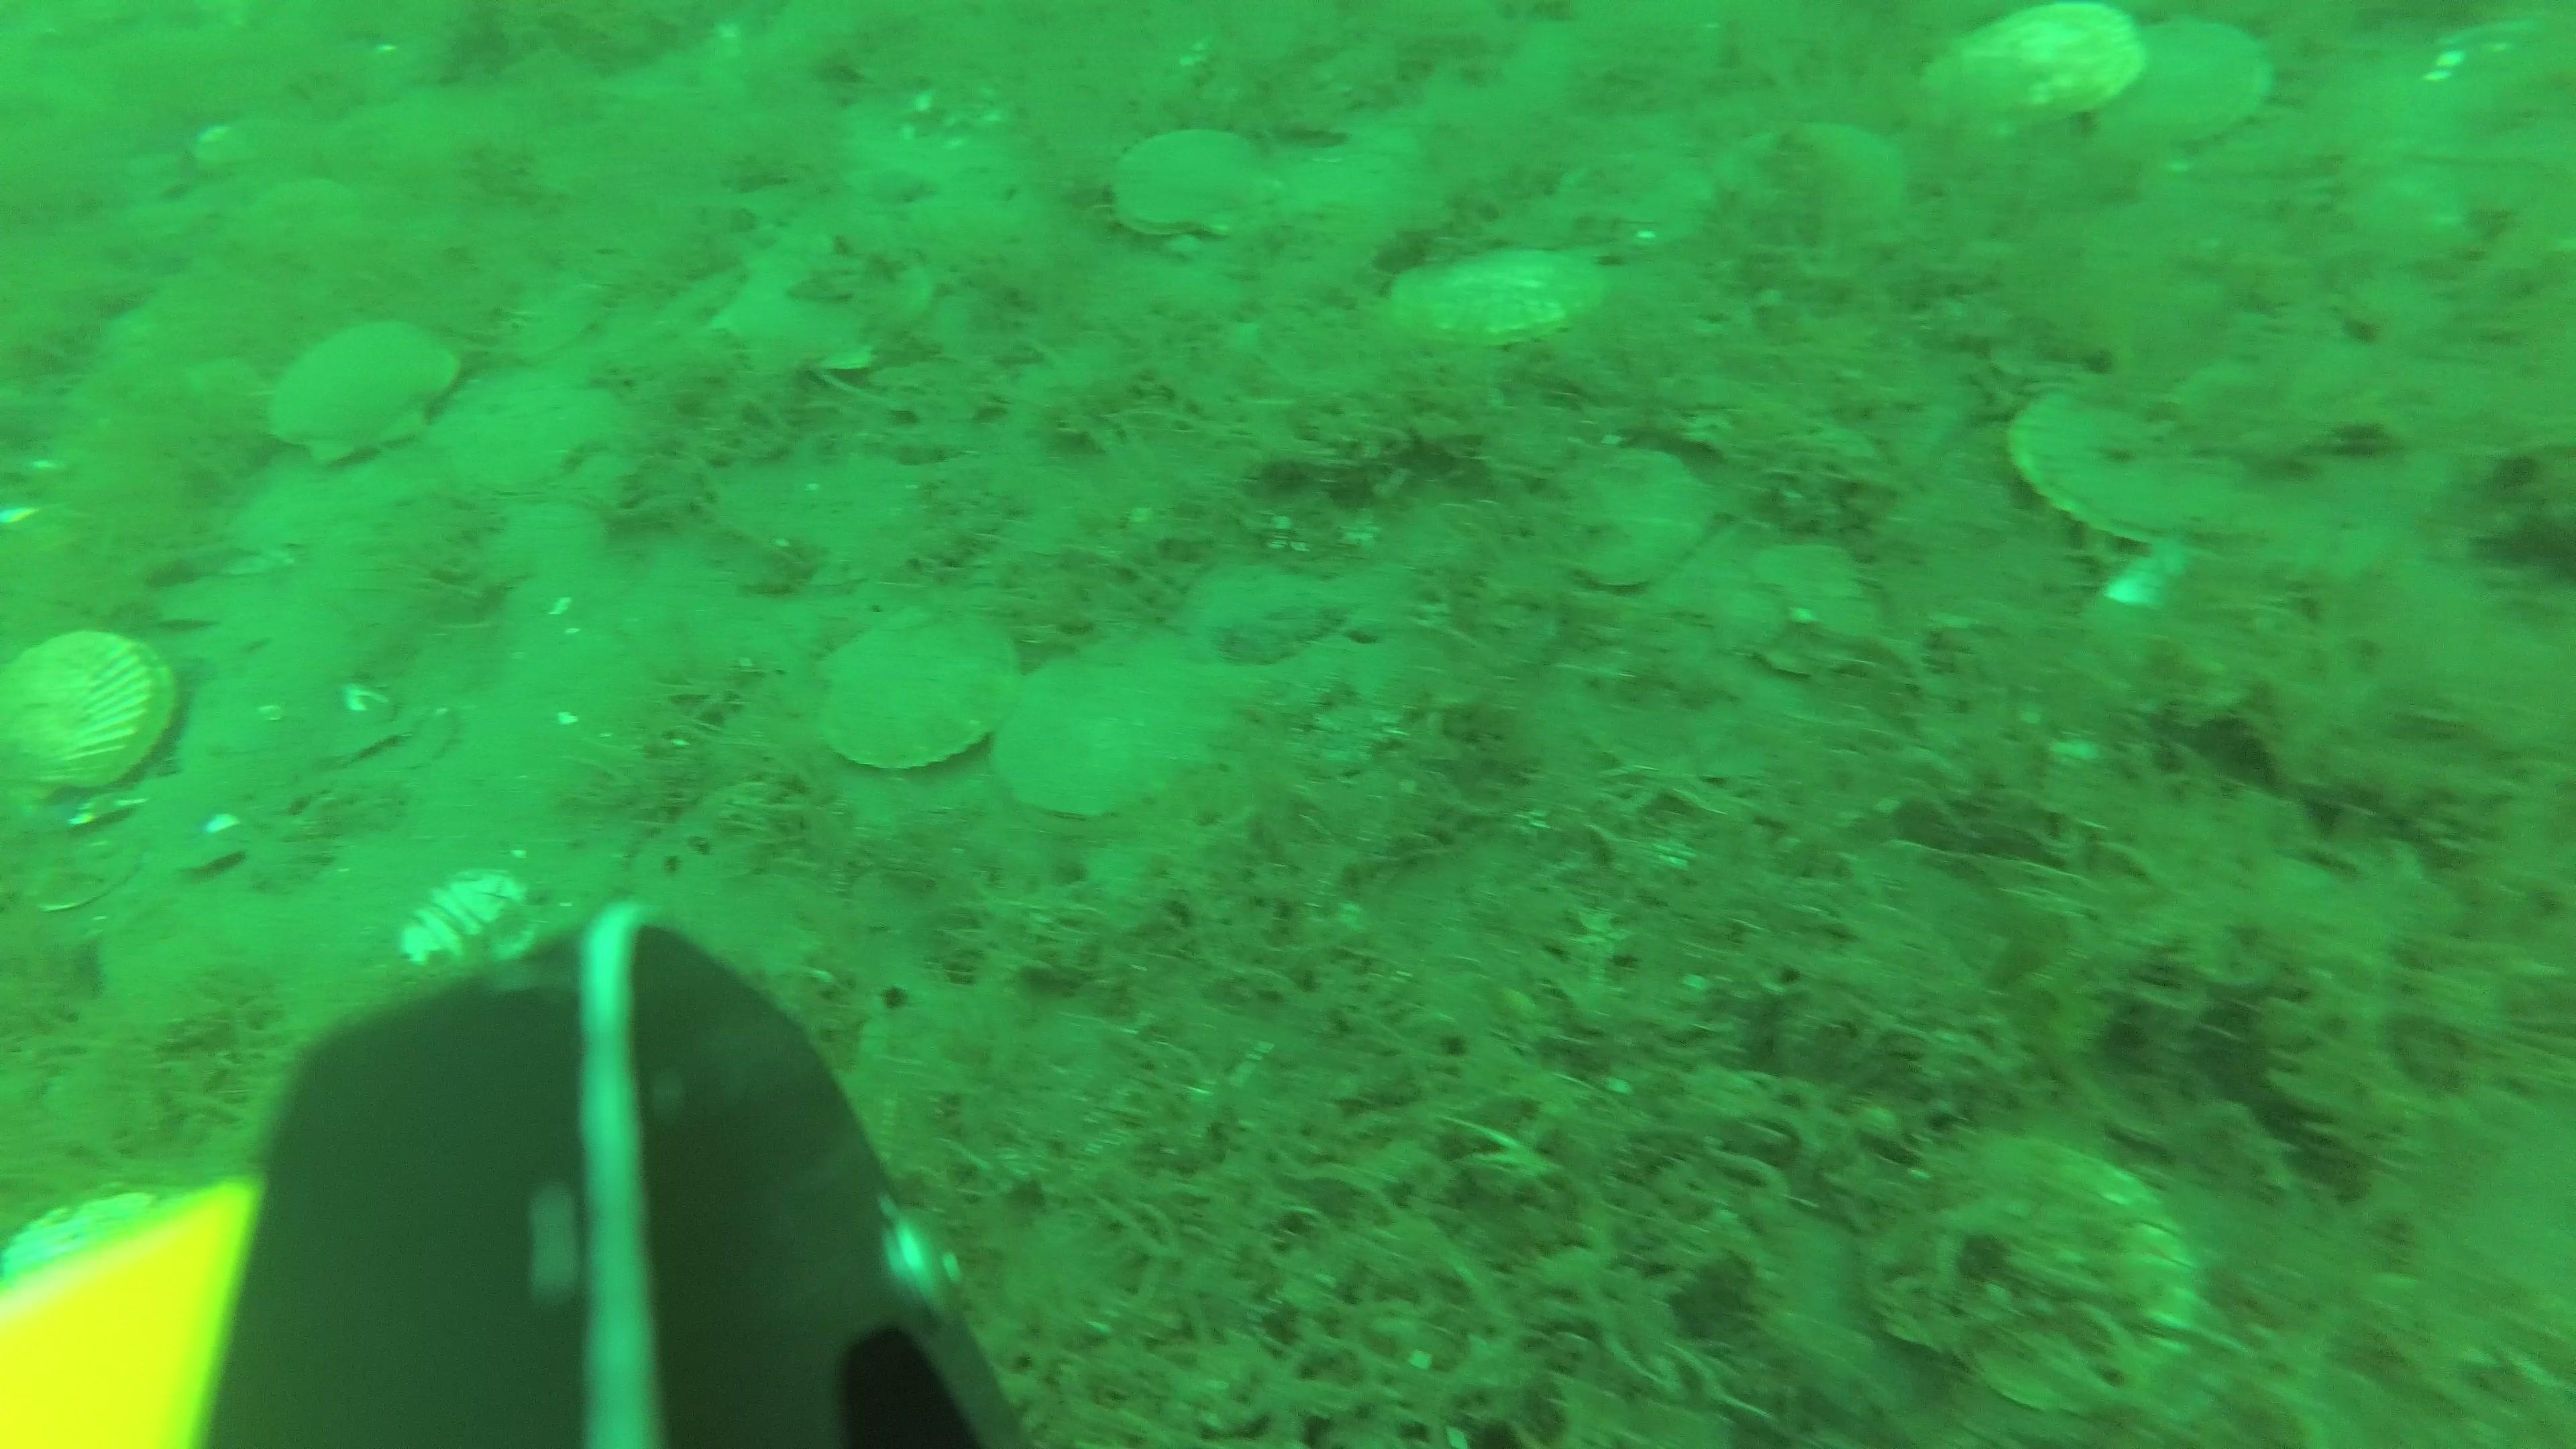scallop: (1913, 1152, 2190, 1407), (2003, 382, 2277, 552), (985, 640, 1231, 821), (798, 598, 1021, 764), (0, 626, 177, 794), (720, 237, 927, 380), (2084, 0, 2275, 152), (1936, 0, 2135, 136), (269, 322, 458, 456), (1713, 108, 1902, 228), (1391, 253, 1610, 352), (1580, 441, 1706, 586), (1111, 126, 1277, 234), (409, 867, 538, 966)
